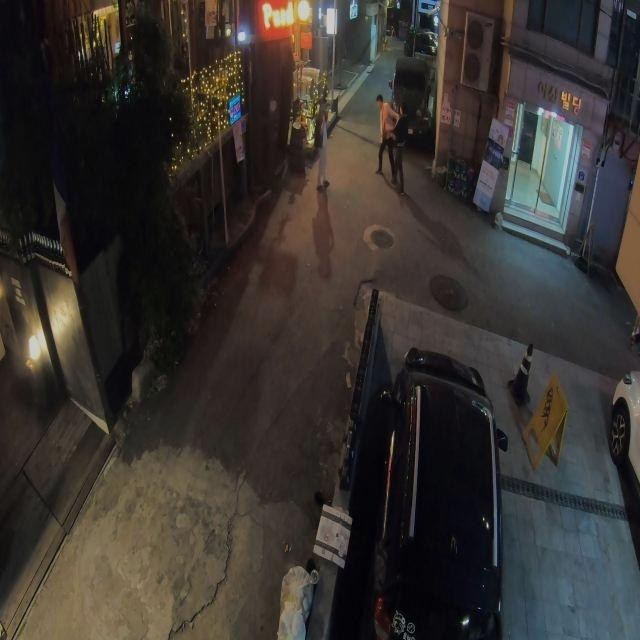non-fight: (372, 86, 398, 176), (315, 107, 330, 190)
